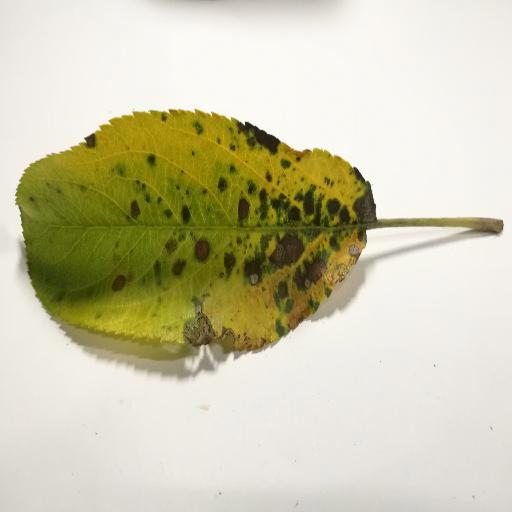Brown_Spot: (221, 230, 357, 326), (206, 167, 388, 226), (183, 310, 217, 341), (185, 233, 215, 268), (104, 269, 133, 292), (127, 199, 145, 224)
